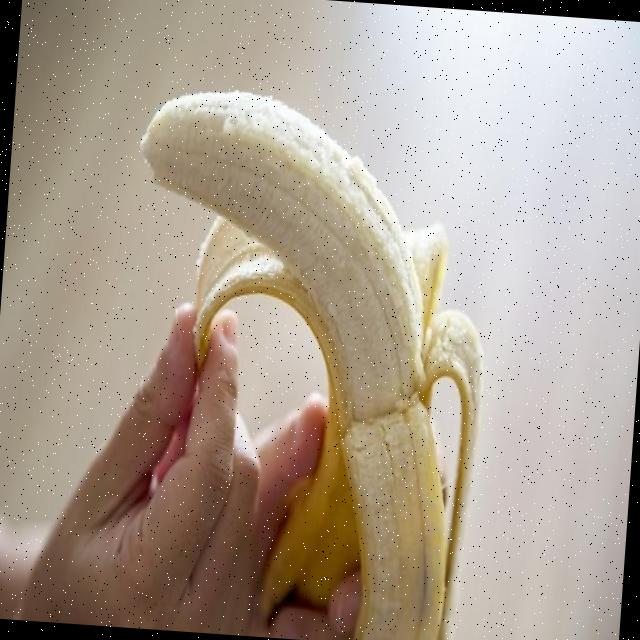banana-peel: (104, 81, 502, 640)
